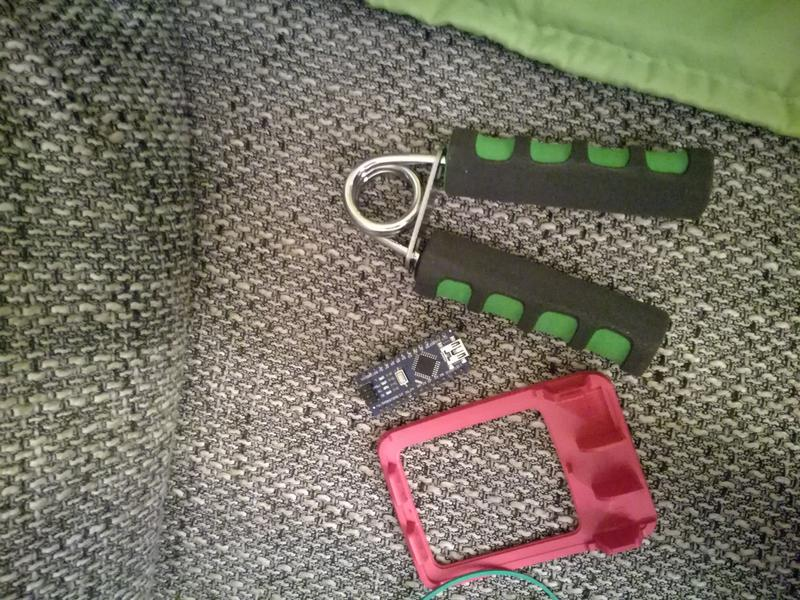Arduino_Nano: (352, 329, 473, 416)
